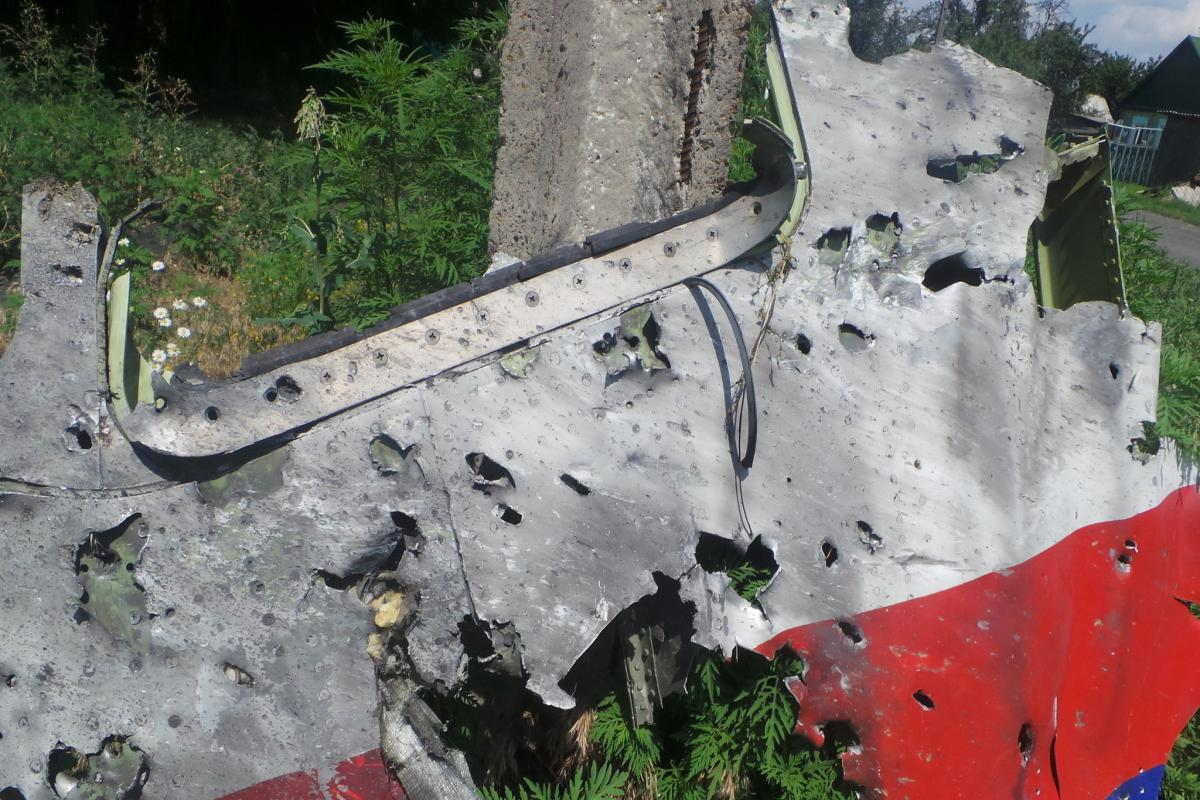Fuselage_damage: (59, 506, 173, 672), (676, 520, 789, 639), (581, 297, 684, 390), (33, 729, 158, 799), (913, 125, 1031, 191), (360, 425, 436, 502), (916, 247, 1024, 299), (489, 330, 562, 388), (457, 442, 527, 498), (807, 219, 857, 292), (859, 205, 910, 273), (211, 647, 263, 693), (55, 410, 101, 462), (1009, 715, 1043, 784), (848, 513, 893, 563), (829, 605, 874, 655), (555, 463, 600, 507), (833, 316, 881, 356), (1111, 531, 1145, 581), (814, 525, 846, 578), (904, 677, 942, 719), (485, 499, 531, 531), (786, 324, 820, 363), (1104, 351, 1125, 389)
